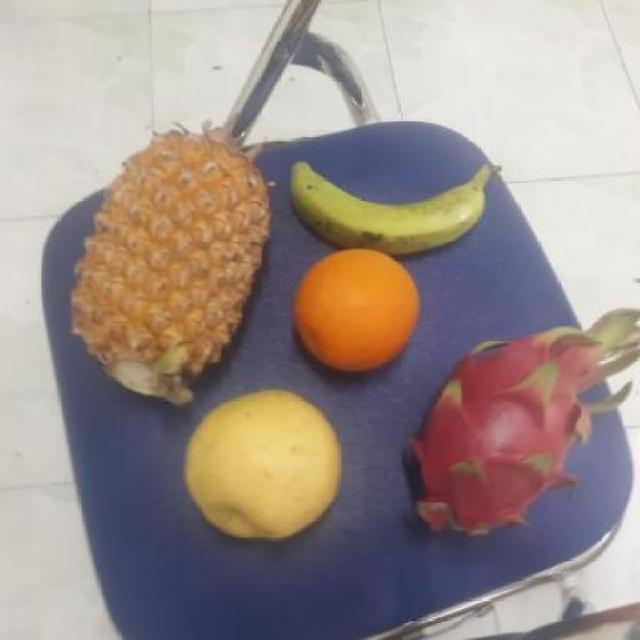banana: (278, 158, 480, 252)
dragon fruit: (387, 338, 595, 538)
oren: (290, 243, 418, 374)
pear: (178, 394, 340, 541)
pineapple: (73, 131, 262, 404)
